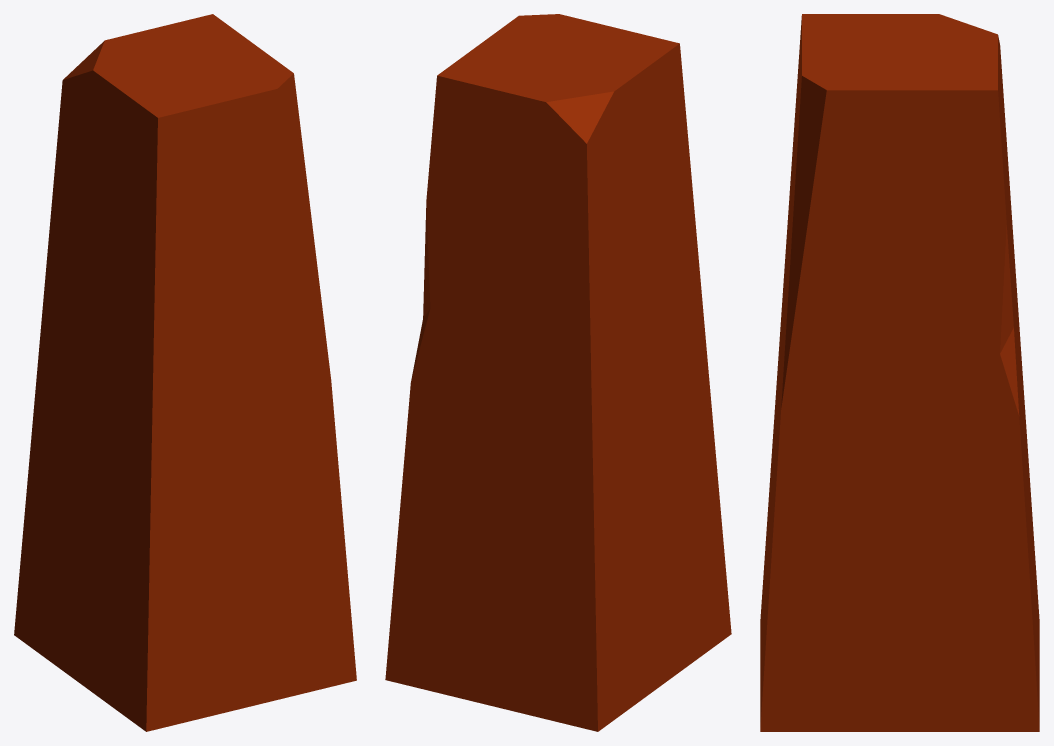
The picture shows the model from 3 angles, left to right: view 1: azimuth 30°, elevation 25°; view 2: azimuth 150°, elevation 25°; view 3: azimuth 270°, elevation 25°; orthographic projection. The views are drawn at different scales.
Parts seen in each view (by area): view 1: Box001; view 2: Box001; view 3: Box001.
Part boxes in pixels (x1,y1,x2,y2): Box001: [14, 14, 356, 731]; Box001: [385, 14, 731, 731]; Box001: [760, 14, 1039, 731].
Bounding box in the file's own units: 11.49 × 30.86 × 12.5.
